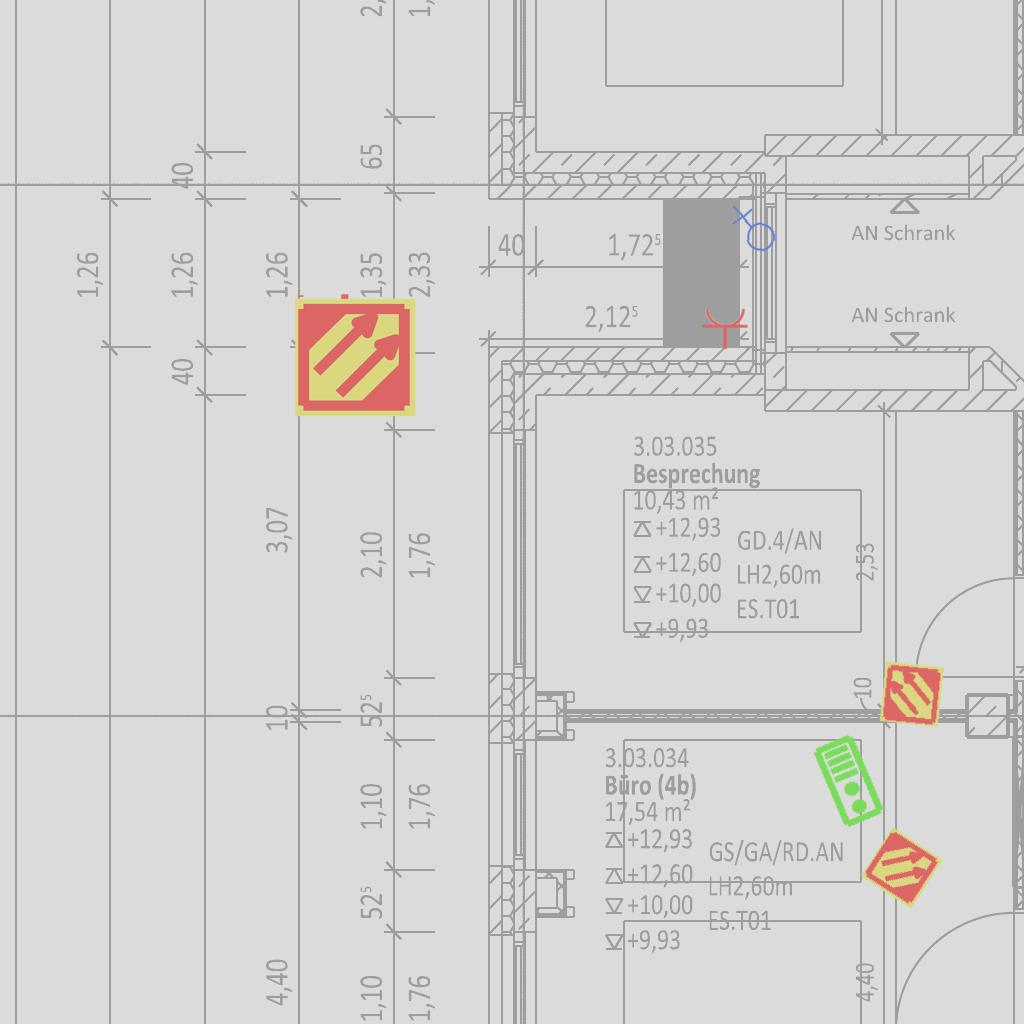ASR_Ansaugrauchmelder: (293, 295, 418, 420), (859, 825, 945, 911), (877, 659, 947, 729)
Elektroanschluss_allgemein_230V_Geraeteanschlussdose_230V: (727, 204, 778, 257)
Gegensprechanlage_mit_Video: (810, 731, 889, 831)
Schukosteckdose_einfach: (293, 292, 393, 379), (701, 307, 751, 350)
